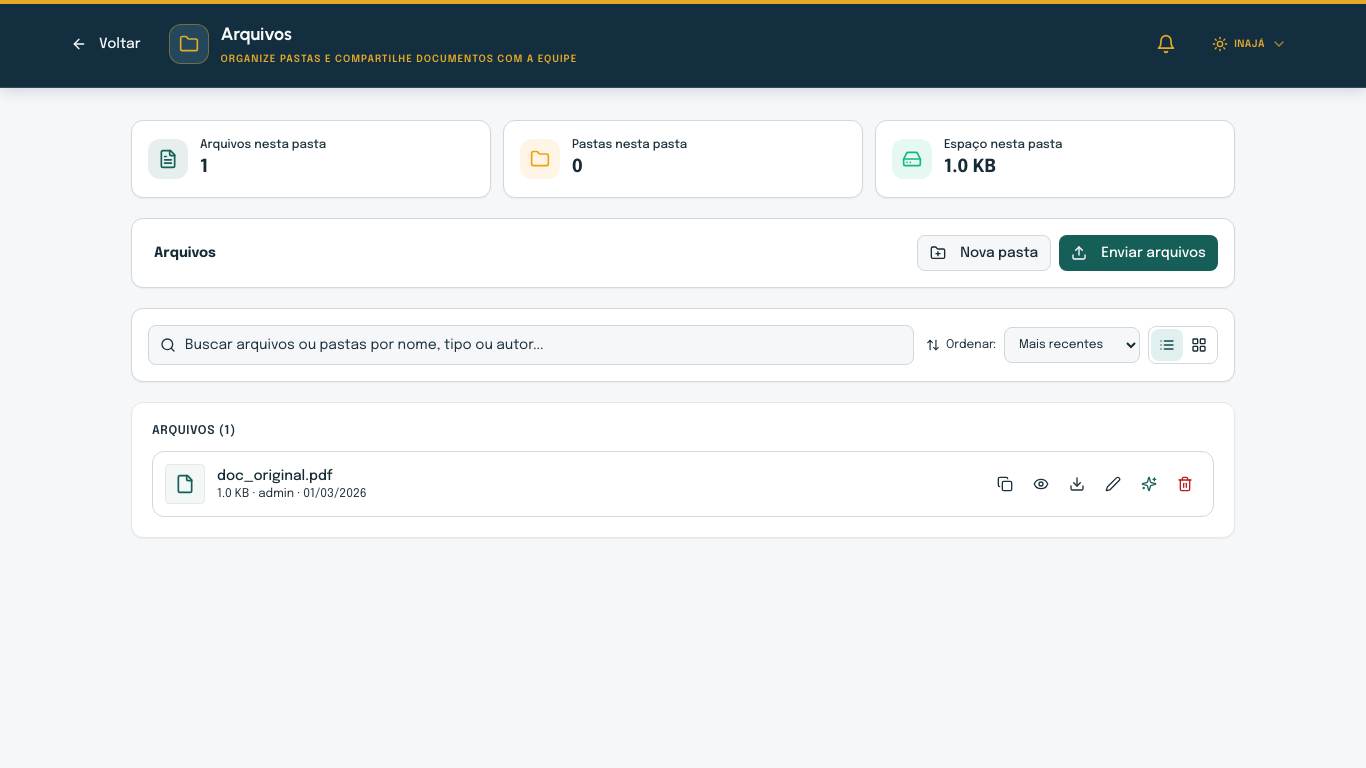
it: Arquivos page › abre modal e renomeia arquivo manualmente
Later steps or results of the test are not shown.
Expected: the text "doc_original.pdf" is shown, x1=217 y1=469 x2=333 y2=483
Click the button named "Renomear doc_original.pdf" at (1113, 484), box x1=1097 y1=468 x2=1129 y2=500
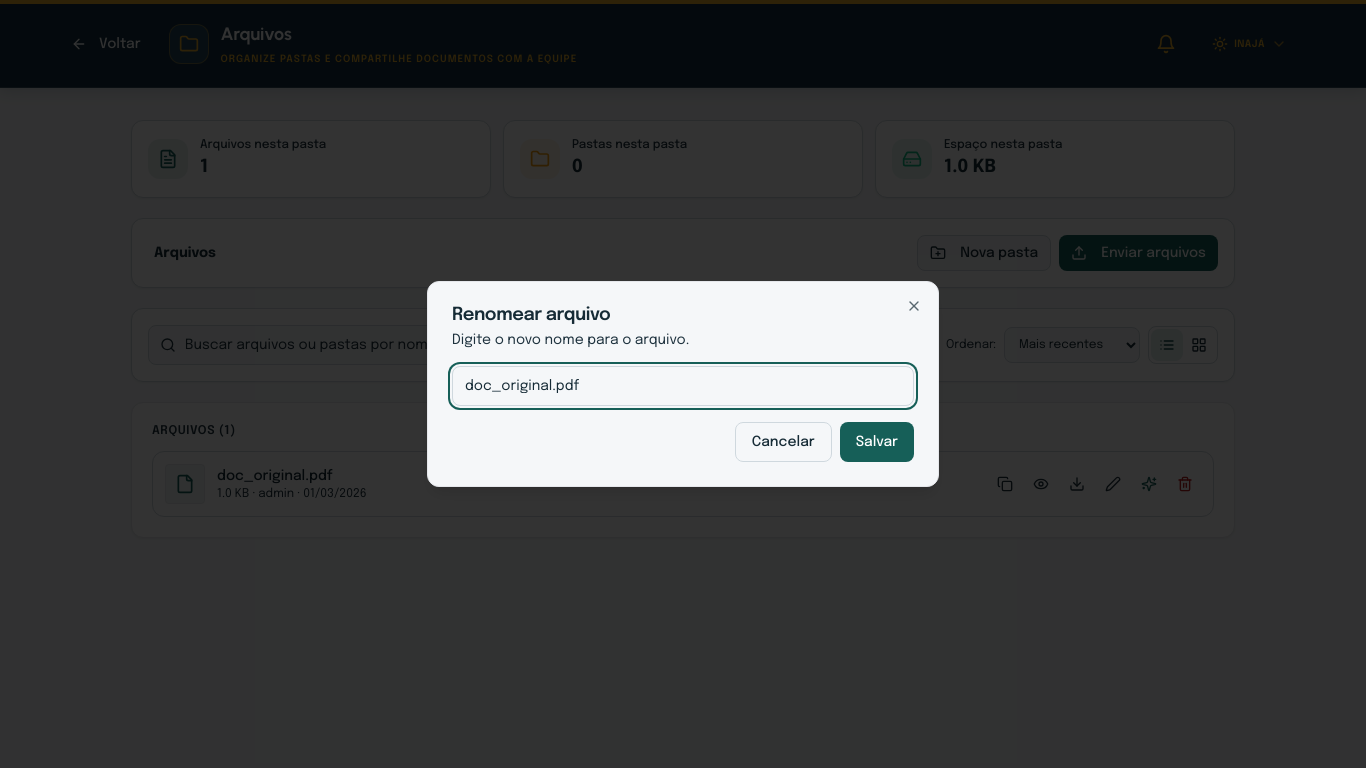
Result: the heading "Renomear arquivo" is shown at x1=452 y1=306 x2=610 y2=324
